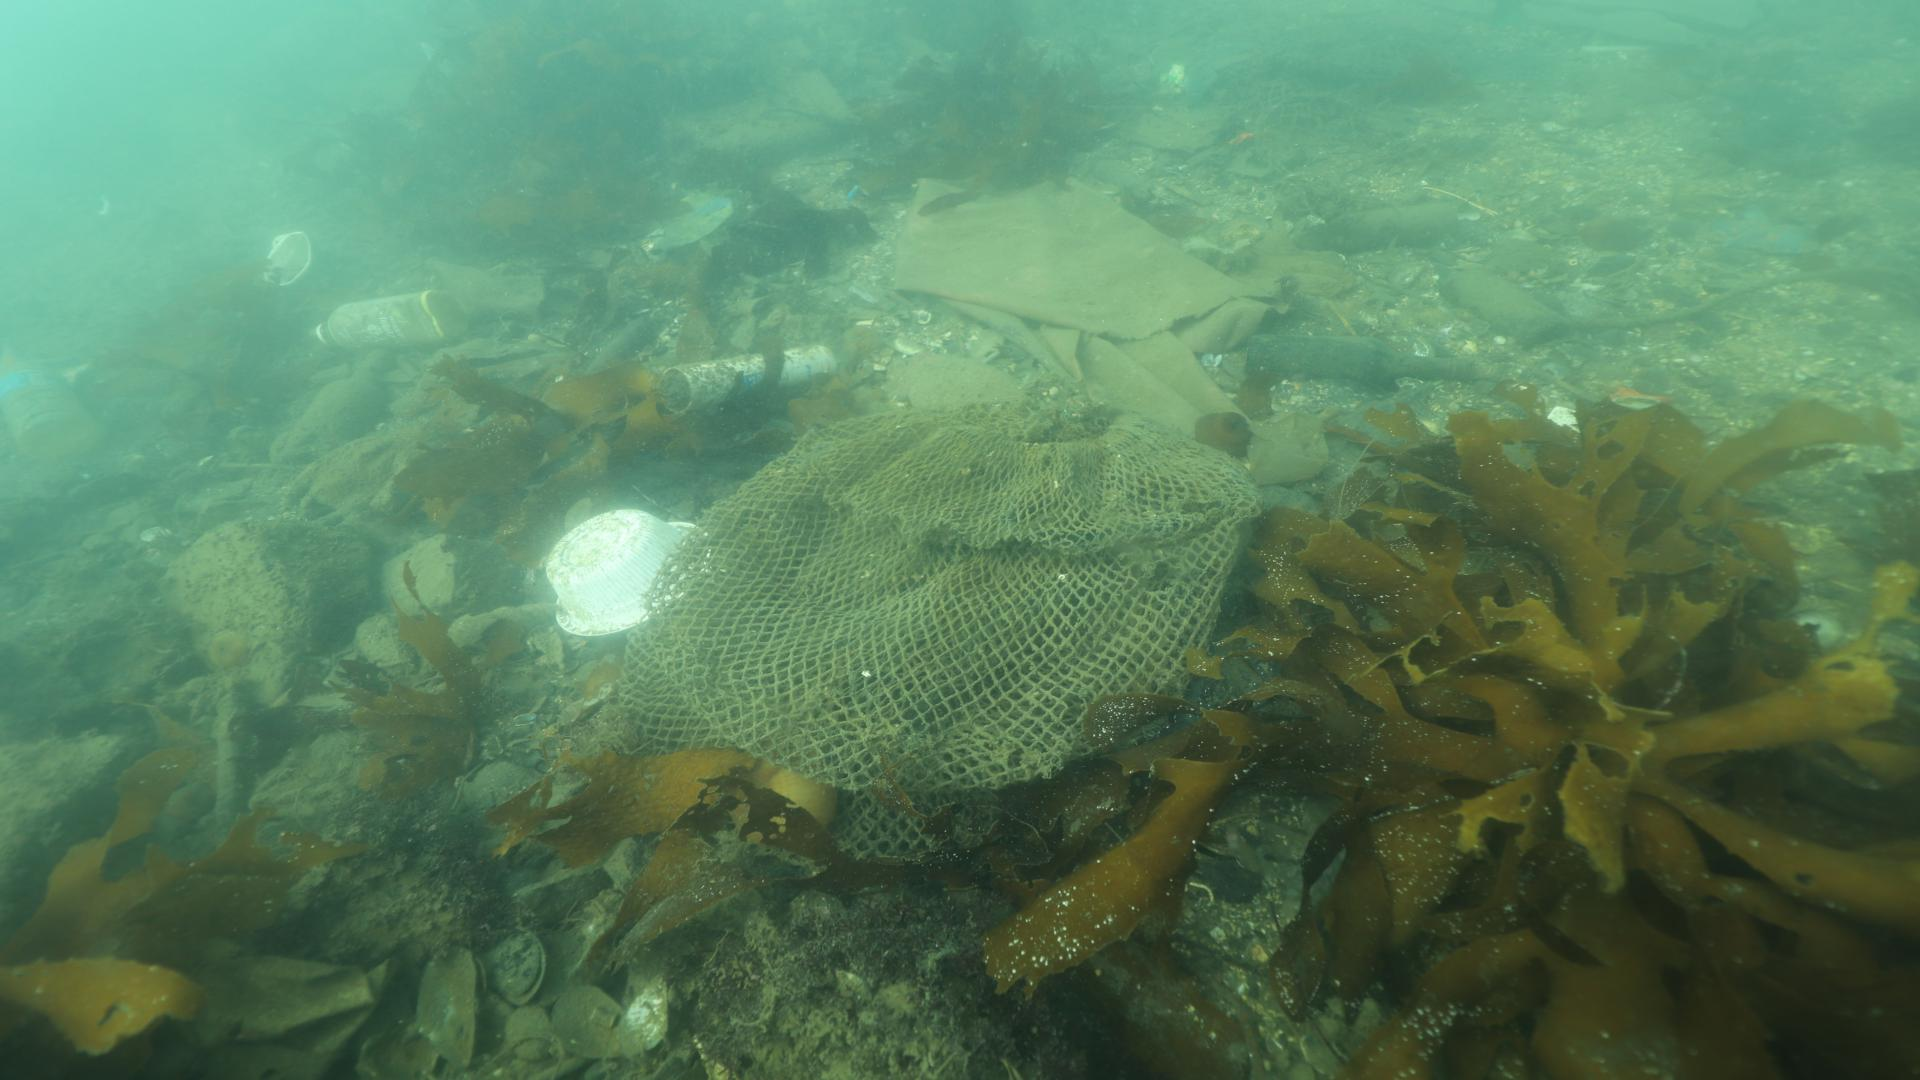fish net: (615, 398, 1269, 852)
